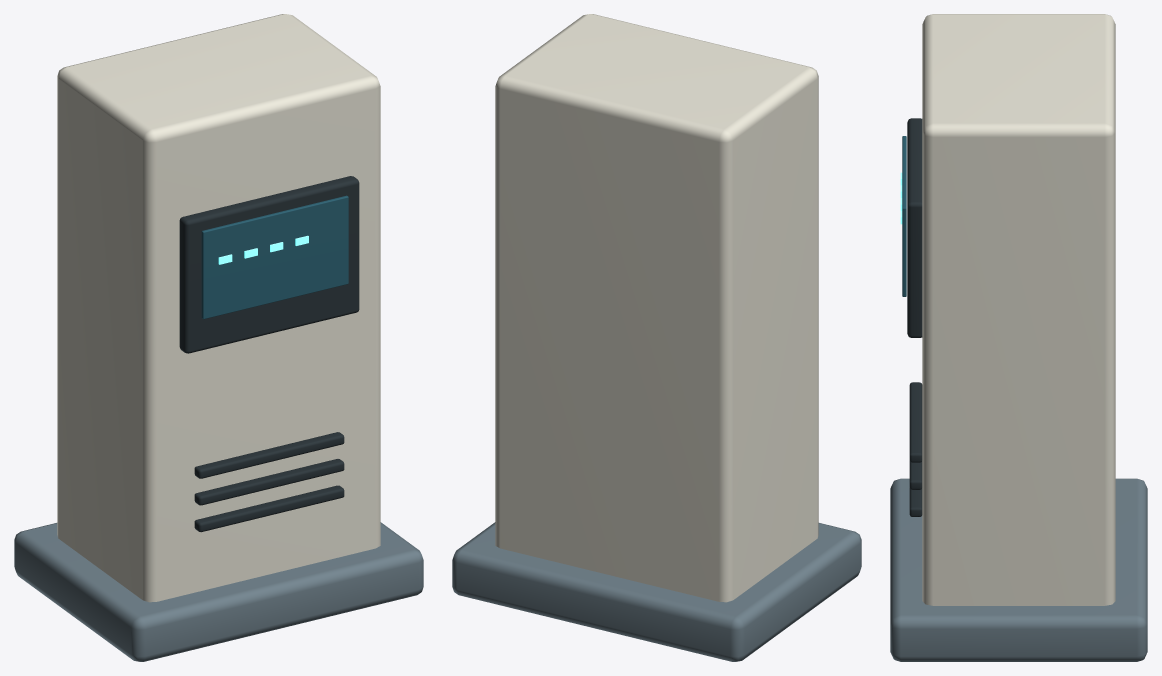
The model's file is SM_FE_PowerUnit.fbx.
3 views of the same model, side by side, from view 1: azimuth 30°, elevation 25°; view 2: azimuth 150°, elevation 25°; view 3: azimuth 270°, elevation 25° (orthographic).
Visible parts, largest first — view 1: SM_FE_PowerUnit; view 2: SM_FE_PowerUnit; view 3: SM_FE_PowerUnit.
Boxes of the visible parts, x1,y1,x2,y2 form: SM_FE_PowerUnit: (14, 14, 423, 661); SM_FE_PowerUnit: (452, 14, 861, 661); SM_FE_PowerUnit: (890, 14, 1147, 661).
Size of the model in its own units: 80 by 60 by 135.
